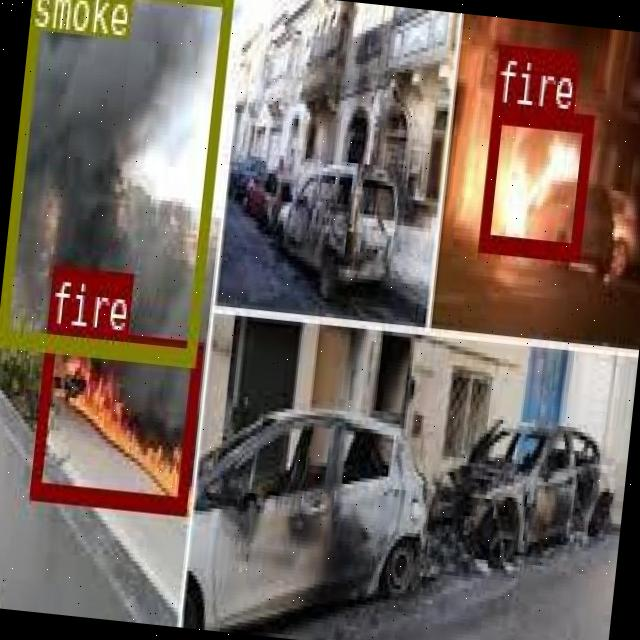fire: (28, 326, 202, 512), (476, 102, 594, 258)
smoke: (0, 0, 230, 363)
